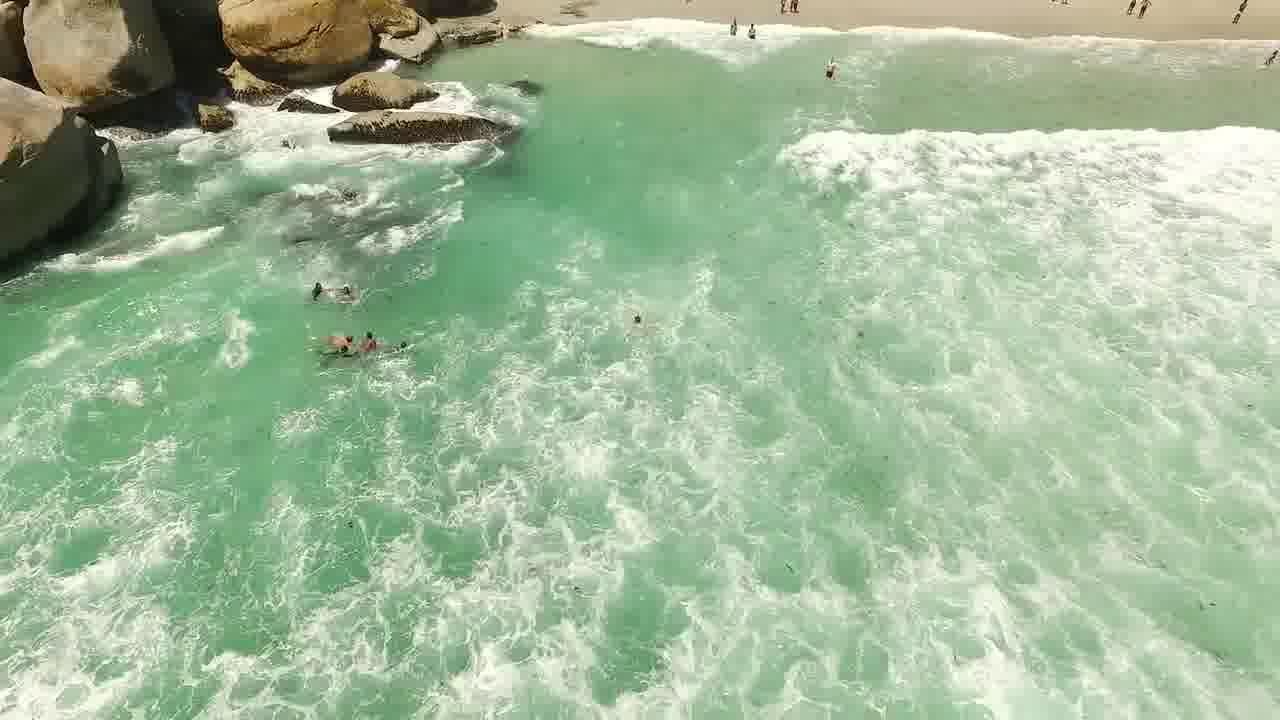human: (813, 45, 846, 84), (357, 314, 382, 357), (327, 329, 355, 362), (623, 300, 645, 332), (334, 272, 356, 300), (301, 270, 322, 295), (742, 19, 755, 44), (719, 13, 734, 30)
